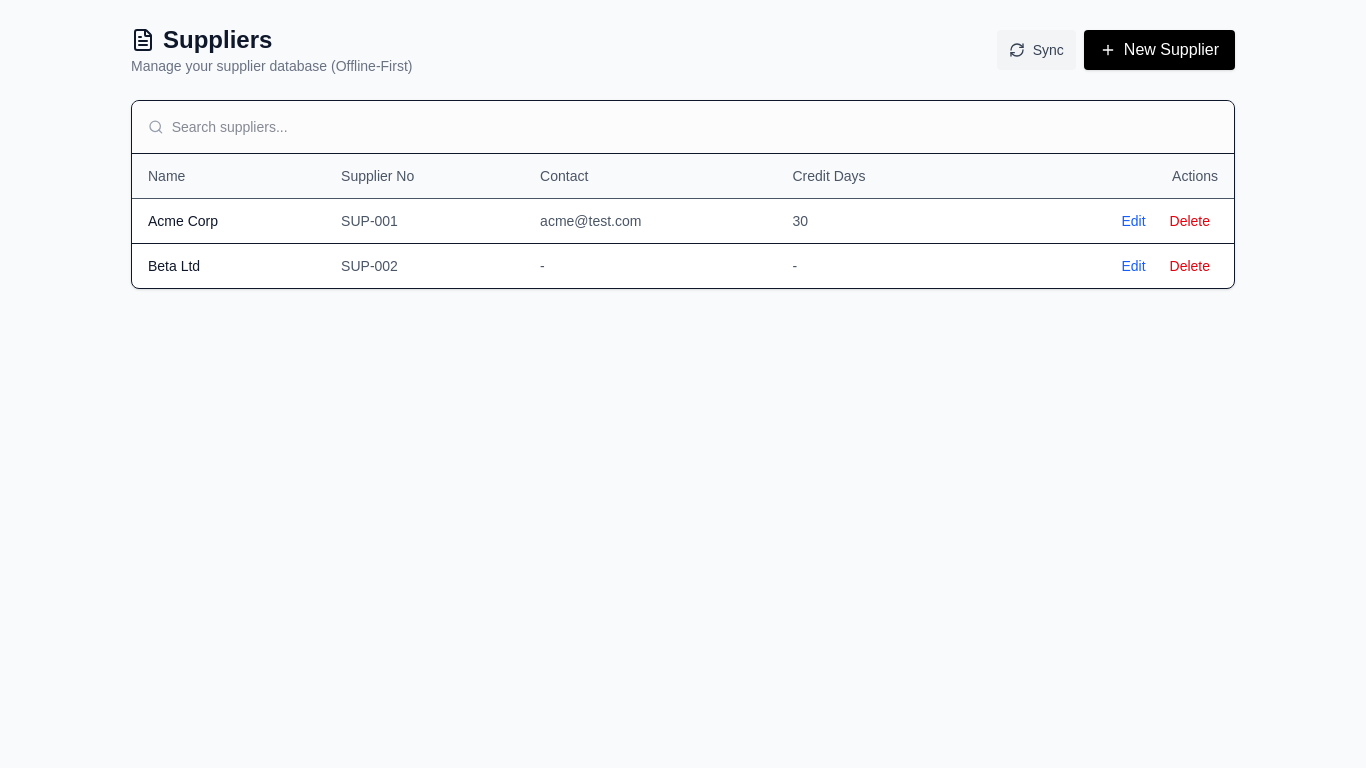
Test: SuppliersPage › shows validation error when name is empty
Click the button "New Supplier". click: (1159, 50)
box: top-left (1084, 30), bottom-right (1235, 70)
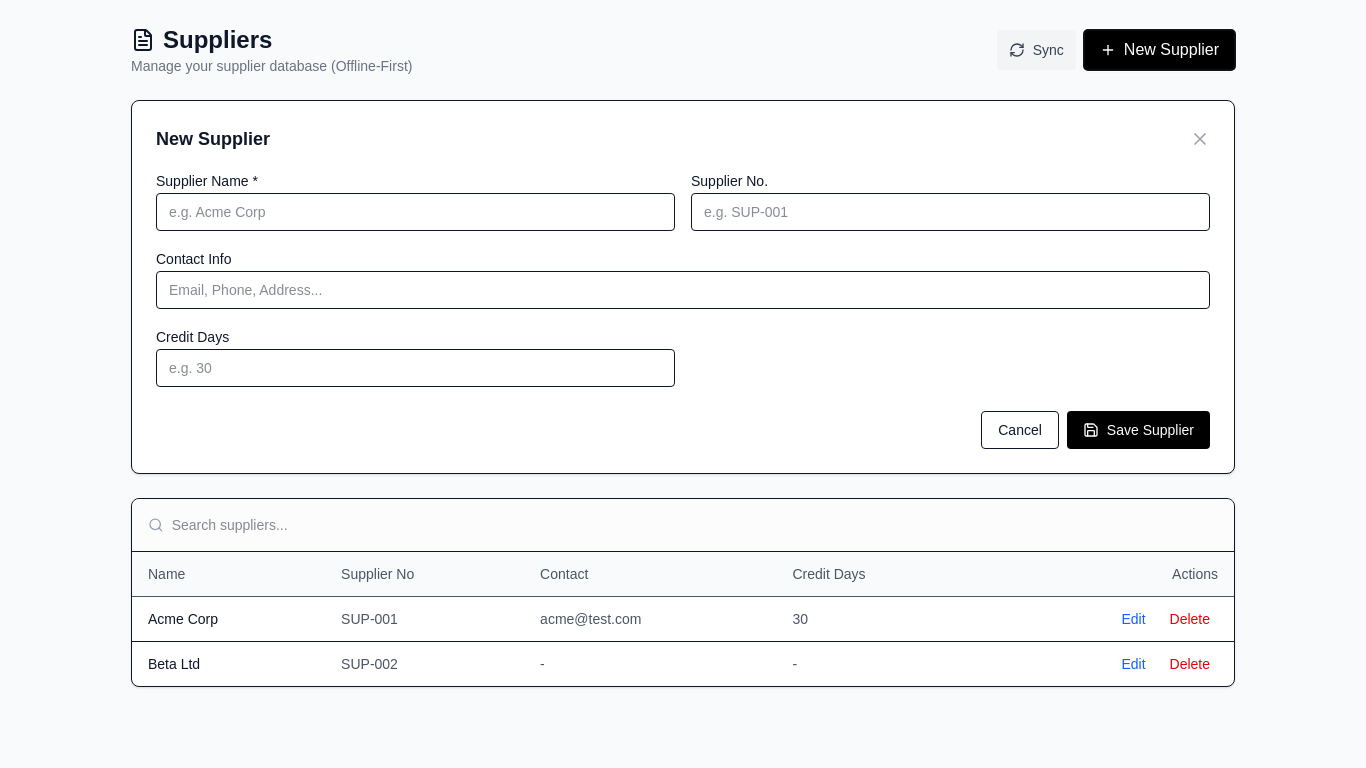
Click the button "Save Supplier". click: (1138, 430)
box: top-left (1067, 411), bottom-right (1210, 449)
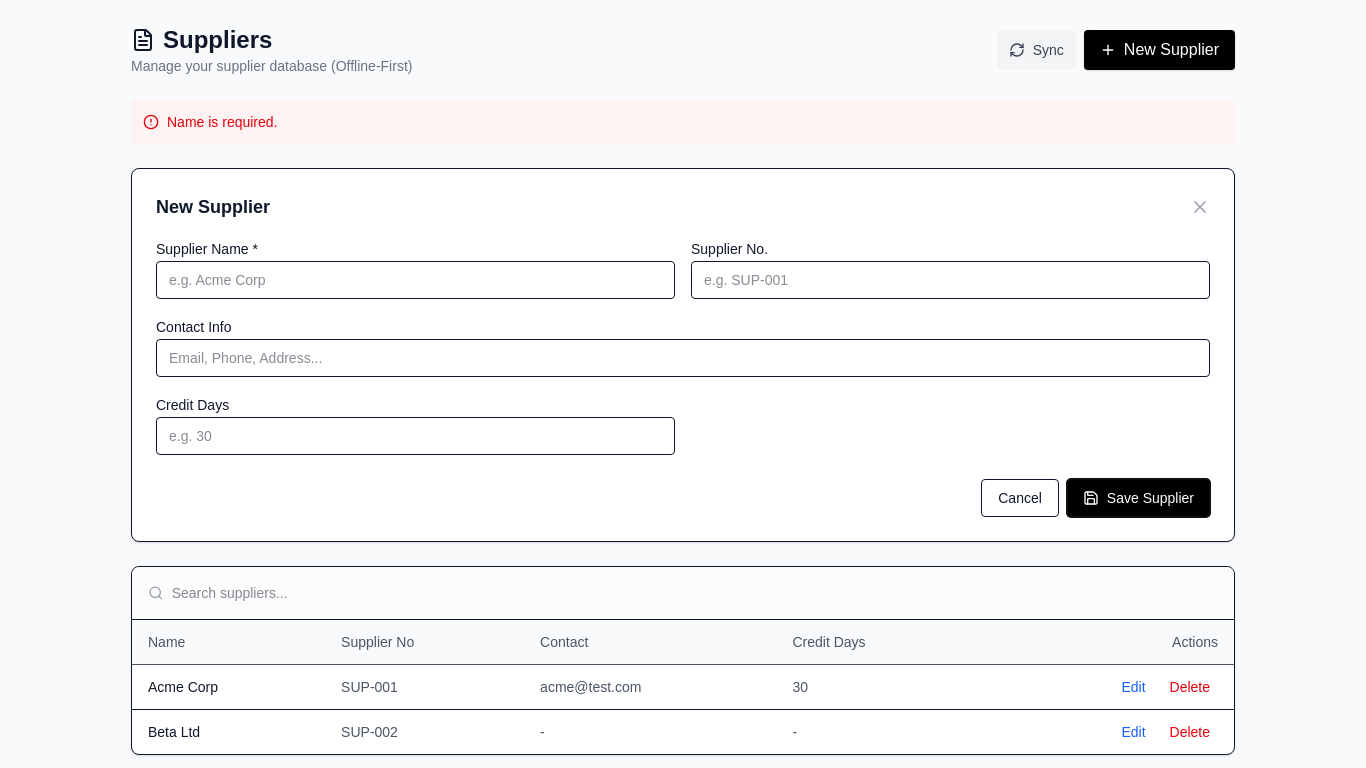
Expected: the text "Name is required." is shown, top-left (131, 100), bottom-right (1235, 144)
